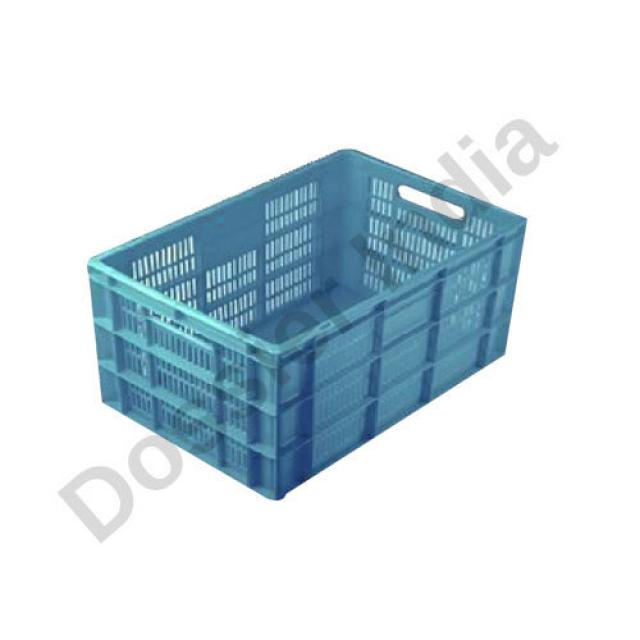basket: (35, 51, 581, 552)
